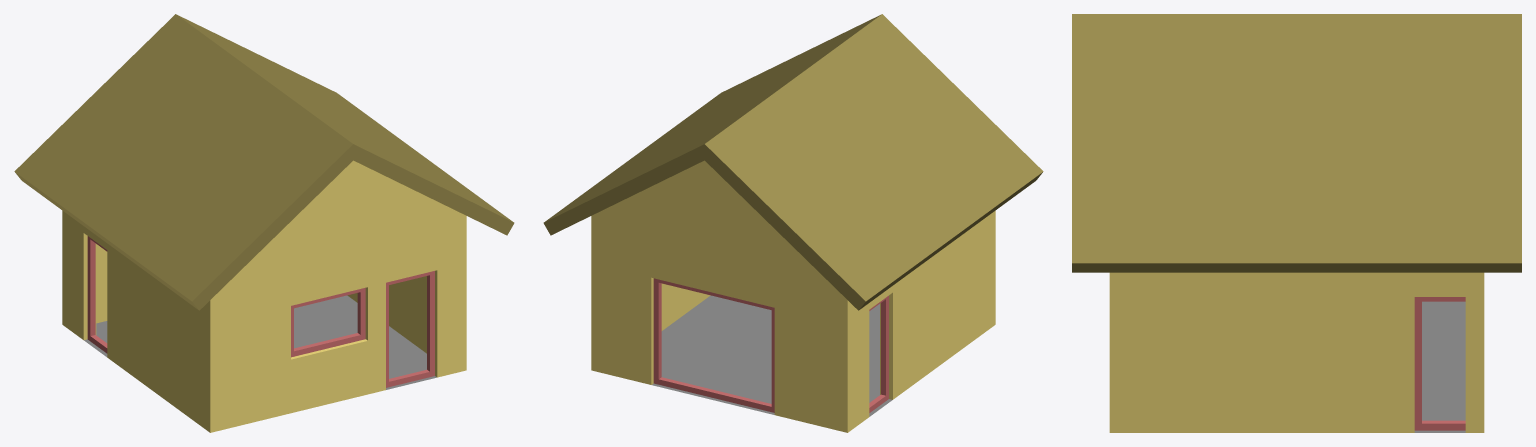
Rendered from result.glb.
3 renders of one model, left to right at view 1: azimuth 30°, elevation 25°; view 2: azimuth 150°, elevation 25°; view 3: azimuth 270°, elevation 25°, orthographic. The views are drawn at different scales.
Visible parts, largest first — view 1: bcb96ca9-8d7a-4a86-89da-bc2a3c3c08e3__undefined (×2), 5cafd9bd-29ea-4a85-992c-b9d8b1f9bbcb__undefined, 861a9729-1dfa-4fb8-ba31-825c1c8cb01a__Plane_6, 8a63b2d8-af14-4606-b9b1-301c83d3e3a8__Box, acd240a1-8665-4fc3-b490-a3bcdb3efb04__Box_3, 235c13ec-e0a1-4c22-b59b-ce3d579c9e90__Box_12; view 2: bcb96ca9-8d7a-4a86-89da-bc2a3c3c08e3__undefined (×2), 5cafd9bd-29ea-4a85-992c-b9d8b1f9bbcb__undefined, 861a9729-1dfa-4fb8-ba31-825c1c8cb01a__Plane_6, 0d3be5c1-186c-4869-bf4f-abec1c1108d3__Box_9, 235c13ec-e0a1-4c22-b59b-ce3d579c9e90__Box_12; view 3: bcb96ca9-8d7a-4a86-89da-bc2a3c3c08e3__undefined, 5cafd9bd-29ea-4a85-992c-b9d8b1f9bbcb__undefined, 861a9729-1dfa-4fb8-ba31-825c1c8cb01a__Plane_6, b9359982-2b89-4f6e-8468-d65599a6d3b1__Box_15.
Part boxes in pixels (bbox=[...]): bcb96ca9-8d7a-4a86-89da-bc2a3c3c08e3__undefined (×2): bbox=[14, 14, 514, 310]; 5cafd9bd-29ea-4a85-992c-b9d8b1f9bbcb__undefined: bbox=[62, 160, 466, 432]; 861a9729-1dfa-4fb8-ba31-825c1c8cb01a__Plane_6: bbox=[84, 295, 436, 389]; 8a63b2d8-af14-4606-b9b1-301c83d3e3a8__Box: bbox=[386, 271, 434, 387]; acd240a1-8665-4fc3-b490-a3bcdb3efb04__Box_3: bbox=[291, 287, 365, 357]; 235c13ec-e0a1-4c22-b59b-ce3d579c9e90__Box_12: bbox=[87, 236, 107, 353]; bcb96ca9-8d7a-4a86-89da-bc2a3c3c08e3__undefined (×2): bbox=[543, 14, 1043, 310]; 5cafd9bd-29ea-4a85-992c-b9d8b1f9bbcb__undefined: bbox=[591, 160, 995, 432]; 861a9729-1dfa-4fb8-ba31-825c1c8cb01a__Plane_6: bbox=[652, 295, 892, 416]; 0d3be5c1-186c-4869-bf4f-abec1c1108d3__Box_9: bbox=[653, 278, 774, 412]; 235c13ec-e0a1-4c22-b59b-ce3d579c9e90__Box_12: bbox=[869, 295, 888, 412]; bcb96ca9-8d7a-4a86-89da-bc2a3c3c08e3__undefined: bbox=[1072, 14, 1521, 272]; 5cafd9bd-29ea-4a85-992c-b9d8b1f9bbcb__undefined: bbox=[1109, 272, 1484, 432]; 861a9729-1dfa-4fb8-ba31-825c1c8cb01a__Plane_6: bbox=[1414, 301, 1465, 432]; b9359982-2b89-4f6e-8468-d65599a6d3b1__Box_15: bbox=[1414, 297, 1465, 430].
Size of the model in its own units: 629 by 500 by 600.
